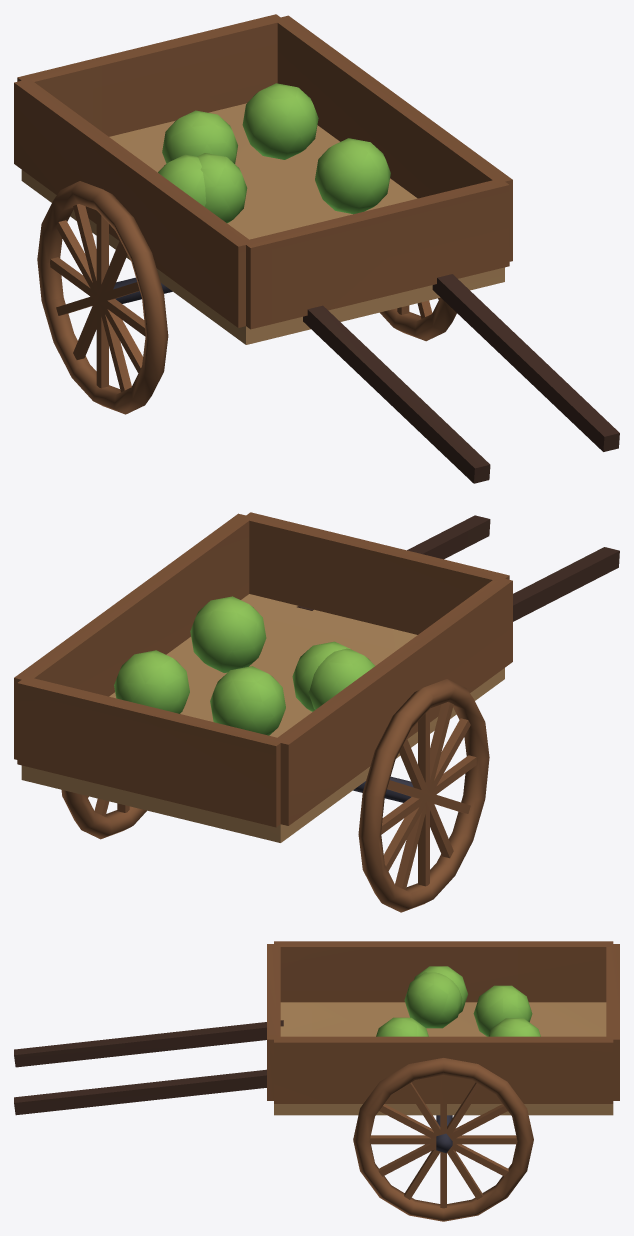
File: cart.glb
The picture shows the model from 3 angles, top to bottom: view 1: azimuth 30°, elevation 25°; view 2: azimuth 150°, elevation 25°; view 3: azimuth 270°, elevation 25°; orthographic projection. The views are drawn at different scales.
Visible parts, largest first — view 1: Body, WheelLMesh, WheelRMesh; view 2: Body, WheelLMesh, WheelRMesh; view 3: Body, WheelRMesh.
Boxes of the visible parts, x1,y1,x2,y2 form: Body: [14, 14, 619, 483]; WheelLMesh: [37, 181, 168, 414]; WheelRMesh: [380, 297, 456, 341]; Body: [14, 512, 619, 842]; WheelLMesh: [358, 679, 489, 912]; WheelRMesh: [61, 789, 146, 839]; Body: [14, 941, 619, 1153]; WheelRMesh: [353, 1058, 533, 1221].
Size of the model in its own units: 1.26 by 0.87 by 2.68.
